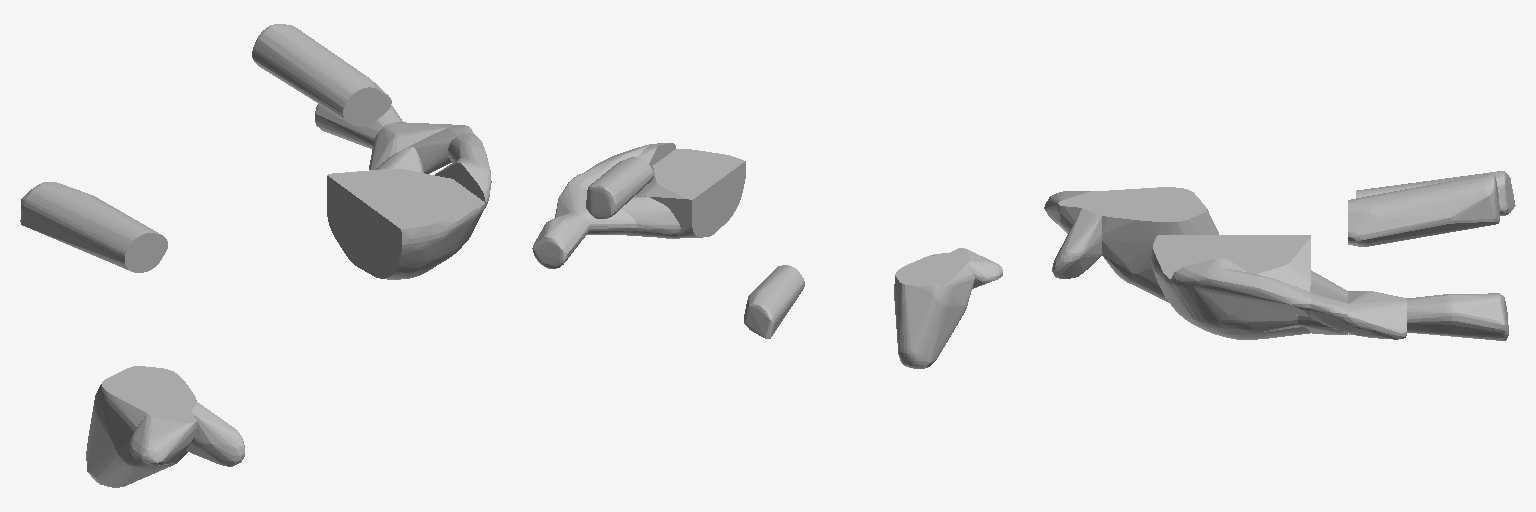
robot.urdf — root:
<robot name="root">
  <link name="link_coacd_convex_piece_0">
    <inertial>
      <origin xyz="0 0 0" rpy="0 0 0"/>
      <inertia ixx="1.77E-09" ixy="-1.02E-09" ixz="-9.57E-10" iyy="1.81E-09" iyz="-9.71E-10" izz="2.17E-09"/>
    </inertial>
    <visual>
      <origin xyz="0 0 0" rpy="0 0 0"/>
      <geometry>
        <mesh filename="coacd_convex_piece_0.obj" scale="1.0000E+00 1.0000E+00 1.0000E+00"/>
      </geometry>
      <material name="">
        <color rgba="7.50E-01 7.50E-01 7.50E-01 1"/>
      </material>
    </visual>
    <collision>
      <origin xyz="0 0 0" rpy="0 0 0"/>
      <geometry>
        <mesh filename="coacd_convex_piece_0.obj" scale="1.0000E+00 1.0000E+00 1.0000E+00"/>
      </geometry>
    </collision>
  </link>
  <link name="link_coacd_convex_piece_1">
    <inertial>
      <origin xyz="0 0 0" rpy="0 0 0"/>
      <inertia ixx="2.37E-09" ixy="-3.00E-09" ixz="-2.30E-09" iyy="6.55E-09" iyz="-1.28E-09" izz="7.45E-09"/>
    </inertial>
    <visual>
      <origin xyz="0 0 0" rpy="0 0 0"/>
      <geometry>
        <mesh filename="coacd_convex_piece_1.obj" scale="1.0000E+00 1.0000E+00 1.0000E+00"/>
      </geometry>
      <material name="">
        <color rgba="7.50E-01 7.50E-01 7.50E-01 1"/>
      </material>
    </visual>
    <collision>
      <origin xyz="0 0 0" rpy="0 0 0"/>
      <geometry>
        <mesh filename="coacd_convex_piece_1.obj" scale="1.0000E+00 1.0000E+00 1.0000E+00"/>
      </geometry>
    </collision>
  </link>
  <joint name="link_coacd_convex_piece_1_joint" type="fixed">
    <origin xyz="0 0 0" rpy="0 0 0"/>
    <parent link="link_coacd_convex_piece_0"/>
    <child link="link_coacd_convex_piece_1"/>
  </joint>
  <link name="link_coacd_convex_piece_2">
    <inertial>
      <origin xyz="0 0 0" rpy="0 0 0"/>
      <inertia ixx="2.32E-09" ixy="5.07E-10" ixz="-8.99E-10" iyy="2.29E-09" iyz="1.23E-10" izz="1.70E-09"/>
    </inertial>
    <visual>
      <origin xyz="0 0 0" rpy="0 0 0"/>
      <geometry>
        <mesh filename="coacd_convex_piece_2.obj" scale="1.0000E+00 1.0000E+00 1.0000E+00"/>
      </geometry>
      <material name="">
        <color rgba="7.50E-01 7.50E-01 7.50E-01 1"/>
      </material>
    </visual>
    <collision>
      <origin xyz="0 0 0" rpy="0 0 0"/>
      <geometry>
        <mesh filename="coacd_convex_piece_2.obj" scale="1.0000E+00 1.0000E+00 1.0000E+00"/>
      </geometry>
    </collision>
  </link>
  <joint name="link_coacd_convex_piece_2_joint" type="fixed">
    <origin xyz="0 0 0" rpy="0 0 0"/>
    <parent link="link_coacd_convex_piece_1"/>
    <child link="link_coacd_convex_piece_2"/>
  </joint>
  <link name="link_coacd_convex_piece_3">
    <inertial>
      <origin xyz="0 0 0" rpy="0 0 0"/>
      <inertia ixx="3.79E-10" ixy="-3.21E-10" ixz="-1.11E-10" iyy="3.16E-10" iyz="-1.31E-10" izz="6.48E-10"/>
    </inertial>
    <visual>
      <origin xyz="0 0 0" rpy="0 0 0"/>
      <geometry>
        <mesh filename="coacd_convex_piece_3.obj" scale="1.0000E+00 1.0000E+00 1.0000E+00"/>
      </geometry>
      <material name="">
        <color rgba="7.50E-01 7.50E-01 7.50E-01 1"/>
      </material>
    </visual>
    <collision>
      <origin xyz="0 0 0" rpy="0 0 0"/>
      <geometry>
        <mesh filename="coacd_convex_piece_3.obj" scale="1.0000E+00 1.0000E+00 1.0000E+00"/>
      </geometry>
    </collision>
  </link>
  <joint name="link_coacd_convex_piece_3_joint" type="fixed">
    <origin xyz="0 0 0" rpy="0 0 0"/>
    <parent link="link_coacd_convex_piece_2"/>
    <child link="link_coacd_convex_piece_3"/>
  </joint>
  <link name="link_coacd_convex_piece_4">
    <inertial>
      <origin xyz="0 0 0" rpy="0 0 0"/>
      <inertia ixx="1.05E-09" ixy="8.29E-10" ixz="4.48E-11" iyy="5.19E-10" iyz="-1.55E-10" izz="1.71E-09"/>
    </inertial>
    <visual>
      <origin xyz="0 0 0" rpy="0 0 0"/>
      <geometry>
        <mesh filename="coacd_convex_piece_4.obj" scale="1.0000E+00 1.0000E+00 1.0000E+00"/>
      </geometry>
      <material name="">
        <color rgba="7.50E-01 7.50E-01 7.50E-01 1"/>
      </material>
    </visual>
    <collision>
      <origin xyz="0 0 0" rpy="0 0 0"/>
      <geometry>
        <mesh filename="coacd_convex_piece_4.obj" scale="1.0000E+00 1.0000E+00 1.0000E+00"/>
      </geometry>
    </collision>
  </link>
  <joint name="link_coacd_convex_piece_4_joint" type="fixed">
    <origin xyz="0 0 0" rpy="0 0 0"/>
    <parent link="link_coacd_convex_piece_3"/>
    <child link="link_coacd_convex_piece_4"/>
  </joint>
  <link name="link_coacd_convex_piece_5">
    <inertial>
      <origin xyz="0 0 0" rpy="0 0 0"/>
      <inertia ixx="7.33E-10" ixy="-8.33E-10" ixz="-2.44E-10" iyy="1.00E-09" iyz="-2.23E-10" izz="1.69E-09"/>
    </inertial>
    <visual>
      <origin xyz="0 0 0" rpy="0 0 0"/>
      <geometry>
        <mesh filename="coacd_convex_piece_5.obj" scale="1.0000E+00 1.0000E+00 1.0000E+00"/>
      </geometry>
      <material name="">
        <color rgba="7.50E-01 7.50E-01 7.50E-01 1"/>
      </material>
    </visual>
    <collision>
      <origin xyz="0 0 0" rpy="0 0 0"/>
      <geometry>
        <mesh filename="coacd_convex_piece_5.obj" scale="1.0000E+00 1.0000E+00 1.0000E+00"/>
      </geometry>
    </collision>
  </link>
  <joint name="link_coacd_convex_piece_5_joint" type="fixed">
    <origin xyz="0 0 0" rpy="0 0 0"/>
    <parent link="link_coacd_convex_piece_4"/>
    <child link="link_coacd_convex_piece_5"/>
  </joint>
  <link name="link_coacd_convex_piece_6">
    <inertial>
      <origin xyz="0 0 0" rpy="0 0 0"/>
      <inertia ixx="8.59E-10" ixy="-1.02E-09" ixz="-2.65E-10" iyy="1.25E-09" iyz="-2.39E-10" izz="2.11E-09"/>
    </inertial>
    <visual>
      <origin xyz="0 0 0" rpy="0 0 0"/>
      <geometry>
        <mesh filename="coacd_convex_piece_6.obj" scale="1.0000E+00 1.0000E+00 1.0000E+00"/>
      </geometry>
      <material name="">
        <color rgba="7.50E-01 7.50E-01 7.50E-01 1"/>
      </material>
    </visual>
    <collision>
      <origin xyz="0 0 0" rpy="0 0 0"/>
      <geometry>
        <mesh filename="coacd_convex_piece_6.obj" scale="1.0000E+00 1.0000E+00 1.0000E+00"/>
      </geometry>
    </collision>
  </link>
  <joint name="link_coacd_convex_piece_6_joint" type="fixed">
    <origin xyz="0 0 0" rpy="0 0 0"/>
    <parent link="link_coacd_convex_piece_5"/>
    <child link="link_coacd_convex_piece_6"/>
  </joint>
  <link name="link_coacd_convex_piece_7">
    <inertial>
      <origin xyz="0 0 0" rpy="0 0 0"/>
      <inertia ixx="1.29E-09" ixy="5.20E-10" ixz="3.29E-10" iyy="6.49E-10" iyz="-6.81E-10" izz="1.22E-09"/>
    </inertial>
    <visual>
      <origin xyz="0 0 0" rpy="0 0 0"/>
      <geometry>
        <mesh filename="coacd_convex_piece_7.obj" scale="1.0000E+00 1.0000E+00 1.0000E+00"/>
      </geometry>
      <material name="">
        <color rgba="7.50E-01 7.50E-01 7.50E-01 1"/>
      </material>
    </visual>
    <collision>
      <origin xyz="0 0 0" rpy="0 0 0"/>
      <geometry>
        <mesh filename="coacd_convex_piece_7.obj" scale="1.0000E+00 1.0000E+00 1.0000E+00"/>
      </geometry>
    </collision>
  </link>
  <joint name="link_coacd_convex_piece_7_joint" type="fixed">
    <origin xyz="0 0 0" rpy="0 0 0"/>
    <parent link="link_coacd_convex_piece_6"/>
    <child link="link_coacd_convex_piece_7"/>
  </joint>
  <link name="link_coacd_convex_piece_8">
    <inertial>
      <origin xyz="0 0 0" rpy="0 0 0"/>
      <inertia ixx="2.23E-10" ixy="-5.44E-10" ixz="-2.87E-10" iyy="1.34E-09" iyz="-1.47E-10" izz="1.55E-09"/>
    </inertial>
    <visual>
      <origin xyz="0 0 0" rpy="0 0 0"/>
      <geometry>
        <mesh filename="coacd_convex_piece_8.obj" scale="1.0000E+00 1.0000E+00 1.0000E+00"/>
      </geometry>
      <material name="">
        <color rgba="7.50E-01 7.50E-01 7.50E-01 1"/>
      </material>
    </visual>
    <collision>
      <origin xyz="0 0 0" rpy="0 0 0"/>
      <geometry>
        <mesh filename="coacd_convex_piece_8.obj" scale="1.0000E+00 1.0000E+00 1.0000E+00"/>
      </geometry>
    </collision>
  </link>
  <joint name="link_coacd_convex_piece_8_joint" type="fixed">
    <origin xyz="0 0 0" rpy="0 0 0"/>
    <parent link="link_coacd_convex_piece_7"/>
    <child link="link_coacd_convex_piece_8"/>
  </joint>
  <link name="link_coacd_convex_piece_9">
    <inertial>
      <origin xyz="0 0 0" rpy="0 0 0"/>
      <inertia ixx="2.33E-09" ixy="-3.59E-09" ixz="5.71E-10" iyy="7.23E-09" iyz="-1.20E-10" izz="9.78E-09"/>
    </inertial>
    <visual>
      <origin xyz="0 0 0" rpy="0 0 0"/>
      <geometry>
        <mesh filename="coacd_convex_piece_9.obj" scale="1.0000E+00 1.0000E+00 1.0000E+00"/>
      </geometry>
      <material name="">
        <color rgba="7.50E-01 7.50E-01 7.50E-01 1"/>
      </material>
    </visual>
    <collision>
      <origin xyz="0 0 0" rpy="0 0 0"/>
      <geometry>
        <mesh filename="coacd_convex_piece_9.obj" scale="1.0000E+00 1.0000E+00 1.0000E+00"/>
      </geometry>
    </collision>
  </link>
  <joint name="link_coacd_convex_piece_9_joint" type="fixed">
    <origin xyz="0 0 0" rpy="0 0 0"/>
    <parent link="link_coacd_convex_piece_8"/>
    <child link="link_coacd_convex_piece_9"/>
  </joint>
  <link name="link_coacd_convex_piece_10">
    <inertial>
      <origin xyz="0 0 0" rpy="0 0 0"/>
      <inertia ixx="4.25E-10" ixy="-5.01E-10" ixz="1.70E-10" iyy="1.40E-09" iyz="-9.63E-11" izz="2.24E-09"/>
    </inertial>
    <visual>
      <origin xyz="0 0 0" rpy="0 0 0"/>
      <geometry>
        <mesh filename="coacd_convex_piece_10.obj" scale="1.0000E+00 1.0000E+00 1.0000E+00"/>
      </geometry>
      <material name="">
        <color rgba="7.50E-01 7.50E-01 7.50E-01 1"/>
      </material>
    </visual>
    <collision>
      <origin xyz="0 0 0" rpy="0 0 0"/>
      <geometry>
        <mesh filename="coacd_convex_piece_10.obj" scale="1.0000E+00 1.0000E+00 1.0000E+00"/>
      </geometry>
    </collision>
  </link>
  <joint name="link_coacd_convex_piece_10_joint" type="fixed">
    <origin xyz="0 0 0" rpy="0 0 0"/>
    <parent link="link_coacd_convex_piece_9"/>
    <child link="link_coacd_convex_piece_10"/>
  </joint>
  <link name="link_coacd_convex_piece_11">
    <inertial>
      <origin xyz="0 0 0" rpy="0 0 0"/>
      <inertia ixx="1.88E-09" ixy="6.53E-10" ixz="-2.44E-09" iyy="4.75E-09" iyz="2.29E-10" izz="3.53E-09"/>
    </inertial>
    <visual>
      <origin xyz="0 0 0" rpy="0 0 0"/>
      <geometry>
        <mesh filename="coacd_convex_piece_11.obj" scale="1.0000E+00 1.0000E+00 1.0000E+00"/>
      </geometry>
      <material name="">
        <color rgba="7.50E-01 7.50E-01 7.50E-01 1"/>
      </material>
    </visual>
    <collision>
      <origin xyz="0 0 0" rpy="0 0 0"/>
      <geometry>
        <mesh filename="coacd_convex_piece_11.obj" scale="1.0000E+00 1.0000E+00 1.0000E+00"/>
      </geometry>
    </collision>
  </link>
  <joint name="link_coacd_convex_piece_11_joint" type="fixed">
    <origin xyz="0 0 0" rpy="0 0 0"/>
    <parent link="link_coacd_convex_piece_10"/>
    <child link="link_coacd_convex_piece_11"/>
  </joint>
  <link name="link_coacd_convex_piece_12">
    <inertial>
      <origin xyz="0 0 0" rpy="0 0 0"/>
      <inertia ixx="1.04E-09" ixy="-1.47E-10" ixz="1.02E-09" iyy="2.06E-09" iyz="-4.71E-11" izz="1.56E-09"/>
    </inertial>
    <visual>
      <origin xyz="0 0 0" rpy="0 0 0"/>
      <geometry>
        <mesh filename="coacd_convex_piece_12.obj" scale="1.0000E+00 1.0000E+00 1.0000E+00"/>
      </geometry>
      <material name="">
        <color rgba="7.50E-01 7.50E-01 7.50E-01 1"/>
      </material>
    </visual>
    <collision>
      <origin xyz="0 0 0" rpy="0 0 0"/>
      <geometry>
        <mesh filename="coacd_convex_piece_12.obj" scale="1.0000E+00 1.0000E+00 1.0000E+00"/>
      </geometry>
    </collision>
  </link>
  <joint name="link_coacd_convex_piece_12_joint" type="fixed">
    <origin xyz="0 0 0" rpy="0 0 0"/>
    <parent link="link_coacd_convex_piece_11"/>
    <child link="link_coacd_convex_piece_12"/>
  </joint>
  <link name="link_coacd_convex_piece_13">
    <inertial>
      <origin xyz="0 0 0" rpy="0 0 0"/>
      <inertia ixx="3.03E-11" ixy="-1.02E-10" ixz="-1.23E-10" iyy="5.03E-10" iyz="-3.57E-11" izz="5.05E-10"/>
    </inertial>
    <visual>
      <origin xyz="0 0 0" rpy="0 0 0"/>
      <geometry>
        <mesh filename="coacd_convex_piece_13.obj" scale="1.0000E+00 1.0000E+00 1.0000E+00"/>
      </geometry>
      <material name="">
        <color rgba="7.50E-01 7.50E-01 7.50E-01 1"/>
      </material>
    </visual>
    <collision>
      <origin xyz="0 0 0" rpy="0 0 0"/>
      <geometry>
        <mesh filename="coacd_convex_piece_13.obj" scale="1.0000E+00 1.0000E+00 1.0000E+00"/>
      </geometry>
    </collision>
  </link>
  <joint name="link_coacd_convex_piece_13_joint" type="fixed">
    <origin xyz="0 0 0" rpy="0 0 0"/>
    <parent link="link_coacd_convex_piece_12"/>
    <child link="link_coacd_convex_piece_13"/>
  </joint>
  <link name="link_coacd_convex_piece_14">
    <inertial>
      <origin xyz="0 0 0" rpy="0 0 0"/>
      <inertia ixx="1.44E-11" ixy="-1.68E-10" ixz="-1.47E-10" iyy="6.81E-10" iyz="-6.38E-11" izz="7.23E-10"/>
    </inertial>
    <visual>
      <origin xyz="0 0 0" rpy="0 0 0"/>
      <geometry>
        <mesh filename="coacd_convex_piece_14.obj" scale="1.0000E+00 1.0000E+00 1.0000E+00"/>
      </geometry>
      <material name="">
        <color rgba="7.50E-01 7.50E-01 7.50E-01 1"/>
      </material>
    </visual>
    <collision>
      <origin xyz="0 0 0" rpy="0 0 0"/>
      <geometry>
        <mesh filename="coacd_convex_piece_14.obj" scale="1.0000E+00 1.0000E+00 1.0000E+00"/>
      </geometry>
    </collision>
  </link>
  <joint name="link_coacd_convex_piece_14_joint" type="fixed">
    <origin xyz="0 0 0" rpy="0 0 0"/>
    <parent link="link_coacd_convex_piece_13"/>
    <child link="link_coacd_convex_piece_14"/>
  </joint>
  <link name="link_coacd_convex_piece_15">
    <inertial>
      <origin xyz="0 0 0" rpy="0 0 0"/>
      <inertia ixx="5.40E-11" ixy="1.32E-10" ixz="-1.62E-10" iyy="5.52E-10" iyz="2.32E-11" izz="5.54E-10"/>
    </inertial>
    <visual>
      <origin xyz="0 0 0" rpy="0 0 0"/>
      <geometry>
        <mesh filename="coacd_convex_piece_15.obj" scale="1.0000E+00 1.0000E+00 1.0000E+00"/>
      </geometry>
      <material name="">
        <color rgba="7.50E-01 7.50E-01 7.50E-01 1"/>
      </material>
    </visual>
    <collision>
      <origin xyz="0 0 0" rpy="0 0 0"/>
      <geometry>
        <mesh filename="coacd_convex_piece_15.obj" scale="1.0000E+00 1.0000E+00 1.0000E+00"/>
      </geometry>
    </collision>
  </link>
  <joint name="link_coacd_convex_piece_15_joint" type="fixed">
    <origin xyz="0 0 0" rpy="0 0 0"/>
    <parent link="link_coacd_convex_piece_14"/>
    <child link="link_coacd_convex_piece_15"/>
  </joint>
  <link name="link_coacd_convex_piece_16">
    <inertial>
      <origin xyz="0 0 0" rpy="0 0 0"/>
      <inertia ixx="4.32E-11" ixy="4.02E-11" ixz="-1.92E-10" iyy="6.13E-10" iyz="2.07E-14" izz="5.72E-10"/>
    </inertial>
    <visual>
      <origin xyz="0 0 0" rpy="0 0 0"/>
      <geometry>
        <mesh filename="coacd_convex_piece_16.obj" scale="1.0000E+00 1.0000E+00 1.0000E+00"/>
      </geometry>
      <material name="">
        <color rgba="7.50E-01 7.50E-01 7.50E-01 1"/>
      </material>
    </visual>
    <collision>
      <origin xyz="0 0 0" rpy="0 0 0"/>
      <geometry>
        <mesh filename="coacd_convex_piece_16.obj" scale="1.0000E+00 1.0000E+00 1.0000E+00"/>
      </geometry>
    </collision>
  </link>
  <joint name="link_coacd_convex_piece_16_joint" type="fixed">
    <origin xyz="0 0 0" rpy="0 0 0"/>
    <parent link="link_coacd_convex_piece_15"/>
    <child link="link_coacd_convex_piece_16"/>
  </joint>
  <link name="link_coacd_convex_piece_17">
    <inertial>
      <origin xyz="0 0 0" rpy="0 0 0"/>
      <inertia ixx="4.26E-10" ixy="1.05E-09" ixz="-9.87E-10" iyy="3.48E-09" iyz="6.68E-11" izz="3.92E-09"/>
    </inertial>
    <visual>
      <origin xyz="0 0 0" rpy="0 0 0"/>
      <geometry>
        <mesh filename="coacd_convex_piece_17.obj" scale="1.0000E+00 1.0000E+00 1.0000E+00"/>
      </geometry>
      <material name="">
        <color rgba="7.50E-01 7.50E-01 7.50E-01 1"/>
      </material>
    </visual>
    <collision>
      <origin xyz="0 0 0" rpy="0 0 0"/>
      <geometry>
        <mesh filename="coacd_convex_piece_17.obj" scale="1.0000E+00 1.0000E+00 1.0000E+00"/>
      </geometry>
    </collision>
  </link>
  <joint name="link_coacd_convex_piece_17_joint" type="fixed">
    <origin xyz="0 0 0" rpy="0 0 0"/>
    <parent link="link_coacd_convex_piece_16"/>
    <child link="link_coacd_convex_piece_17"/>
  </joint>
  <link name="link_coacd_convex_piece_18">
    <inertial>
      <origin xyz="0 0 0" rpy="0 0 0"/>
      <inertia ixx="3.97E-13" ixy="-5.83E-13" ixz="-1.25E-12" iyy="2.10E-12" iyz="-6.83E-13" izz="1.83E-12"/>
    </inertial>
    <visual>
      <origin xyz="0 0 0" rpy="0 0 0"/>
      <geometry>
        <mesh filename="coacd_convex_piece_18.obj" scale="1.0000E+00 1.0000E+00 1.0000E+00"/>
      </geometry>
      <material name="">
        <color rgba="7.50E-01 7.50E-01 7.50E-01 1"/>
      </material>
    </visual>
    <collision>
      <origin xyz="0 0 0" rpy="0 0 0"/>
      <geometry>
        <mesh filename="coacd_convex_piece_18.obj" scale="1.0000E+00 1.0000E+00 1.0000E+00"/>
      </geometry>
    </collision>
  </link>
  <joint name="link_coacd_convex_piece_18_joint" type="fixed">
    <origin xyz="0 0 0" rpy="0 0 0"/>
    <parent link="link_coacd_convex_piece_17"/>
    <child link="link_coacd_convex_piece_18"/>
  </joint>
</robot>

--- What the picture shows (computed from the rendered views, not written in the file) ---
The picture shows the robot from 3 angles, left to right: view 1: azimuth 30°, elevation 25°; view 2: azimuth 150°, elevation 25°; view 3: azimuth 270°, elevation 25°; orthographic projection.
Model root with 19 links and 18 joints (18 fixed), rooted at link_coacd_convex_piece_0, posed every joint at zero.
Links seen in each view (by area): view 1: link_coacd_convex_piece_17, link_coacd_convex_piece_1, link_coacd_convex_piece_4, link_coacd_convex_piece_0, link_coacd_convex_piece_5, link_coacd_convex_piece_3, link_coacd_convex_piece_8, link_coacd_convex_piece_6, link_coacd_convex_piece_13, link_coacd_convex_piece_15, link_coacd_convex_piece_16, link_coacd_convex_piece_14; view 2: link_coacd_convex_piece_1, link_coacd_convex_piece_17, link_coacd_convex_piece_4, link_coacd_convex_piece_0, link_coacd_convex_piece_6, link_coacd_convex_piece_8, link_coacd_convex_piece_14, link_coacd_convex_piece_5; view 3: link_coacd_convex_piece_0, link_coacd_convex_piece_17, link_coacd_convex_piece_1, link_coacd_convex_piece_6, link_coacd_convex_piece_15, link_coacd_convex_piece_16, link_coacd_convex_piece_8, link_coacd_convex_piece_3, link_coacd_convex_piece_5, link_coacd_convex_piece_4, link_coacd_convex_piece_13, link_coacd_convex_piece_14.
Link boxes in pixels (box(x1,y1,x2,y2)): link_coacd_convex_piece_17: box(327, 169, 485, 279); link_coacd_convex_piece_1: box(86, 366, 196, 487); link_coacd_convex_piece_4: box(20, 182, 167, 272); link_coacd_convex_piece_0: box(252, 24, 391, 126); link_coacd_convex_piece_5: box(130, 405, 196, 465); link_coacd_convex_piece_3: box(182, 401, 244, 466); link_coacd_convex_piece_8: box(369, 122, 457, 169); link_coacd_convex_piece_6: box(315, 104, 402, 148); link_coacd_convex_piece_13: box(413, 125, 473, 173); link_coacd_convex_piece_15: box(435, 158, 490, 207); link_coacd_convex_piece_16: box(448, 133, 491, 184); link_coacd_convex_piece_14: box(375, 147, 423, 172); link_coacd_convex_piece_1: box(894, 255, 974, 368); link_coacd_convex_piece_17: box(634, 149, 745, 238); link_coacd_convex_piece_4: box(744, 265, 804, 338); link_coacd_convex_piece_0: box(586, 157, 653, 218); link_coacd_convex_piece_6: box(532, 212, 589, 268); link_coacd_convex_piece_8: box(555, 184, 637, 234); link_coacd_convex_piece_14: box(622, 196, 680, 237); link_coacd_convex_piece_5: box(943, 248, 1002, 288); link_coacd_convex_piece_0: box(1348, 174, 1499, 246); link_coacd_convex_piece_17: box(1151, 235, 1310, 339); link_coacd_convex_piece_1: box(1102, 187, 1218, 302); link_coacd_convex_piece_6: box(1407, 293, 1508, 340); link_coacd_convex_piece_15: box(1171, 258, 1297, 333); link_coacd_convex_piece_16: box(1190, 269, 1310, 317); link_coacd_convex_piece_8: box(1348, 291, 1406, 339); link_coacd_convex_piece_3: box(1052, 208, 1101, 278); link_coacd_convex_piece_5: box(1044, 191, 1101, 233); link_coacd_convex_piece_4: box(1356, 171, 1515, 215); link_coacd_convex_piece_13: box(1311, 293, 1347, 331); link_coacd_convex_piece_14: box(1298, 270, 1347, 334).
Bounding box of the posed robot: 0.1002 × 0.0856 × 0.0578 m (x, y, z).
Meshes: 19 distinct files referenced, 12 mesh visuals loaded (12 OBJ); not drawn: 7 (reference not matched to a file when rendering).